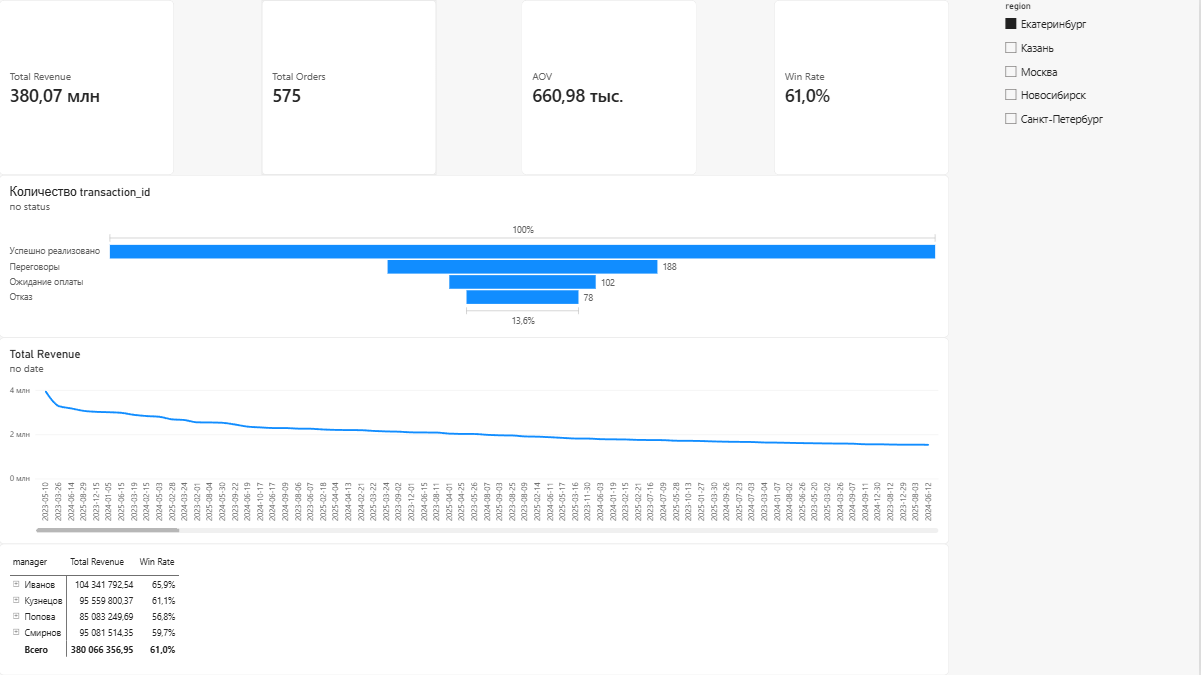

This screenshot's page, from the dashboard's own definition file:
{"tool":"powerbi","page":{"name":"Страница 1","canvas":[1920,1080],"ordinal":0},"visuals":[{"type":"cardVisual","fields":{"Data":["_Measures.Total Revenue"]},"box":[0,0,280,280],"z":0},{"type":"cardVisual","fields":{"Data":["_Measures.Total Orders"]},"box":[420,0,280,280],"z":1},{"type":"cardVisual","fields":{"Data":["_Measures.AOV"]},"box":[835,0,280,280],"z":2},{"type":"cardVisual","fields":{"Data":["_Measures.Win Rate"]},"box":[1240,0,280,280],"z":3},{"type":"funnel","fields":{"Category":["fact_sales.status"],"Y":["CountNonNull(fact_sales.transaction_id)"]},"box":[0,280,1520,260],"z":5},{"type":"pivotTable","fields":{"Rows":["dim_managers.manager","dim_products.product"],"Values":["_Measures.Total Revenue","_Measures.Win Rate"]},"box":[0,870,1520,210],"z":6},{"type":"slicer","fields":{"Values":["dim_clients.region"]},"box":[1602.5,0,317.5,280],"z":7},{"type":"lineChart","fields":{"Category":["fact_sales.date"],"Y":["_Measures.Total Revenue"]},"box":[0,540,1520,330],"z":8}]}

Visuals, with their boxes in screenshot pixels (x1, y1, x2, y2), scaled from the page's 1920x1080 canvas onto the 1201x675 screenshot:
cardVisual - _Measures.Total Revenue: 0, 0, 175, 175
cardVisual - _Measures.Total Orders: 263, 0, 438, 175
cardVisual - _Measures.AOV: 522, 0, 697, 175
cardVisual - _Measures.Win Rate: 776, 0, 951, 175
funnel - fact_sales.status x CountNonNull(fact_sales.transaction_id): 0, 175, 951, 338
pivotTable - dim_managers.manager x dim_products.product: 0, 544, 951, 674
slicer - dim_clients.region: 1002, 0, 1200, 175
lineChart - fact_sales.date x _Measures.Total Revenue: 0, 338, 951, 544
